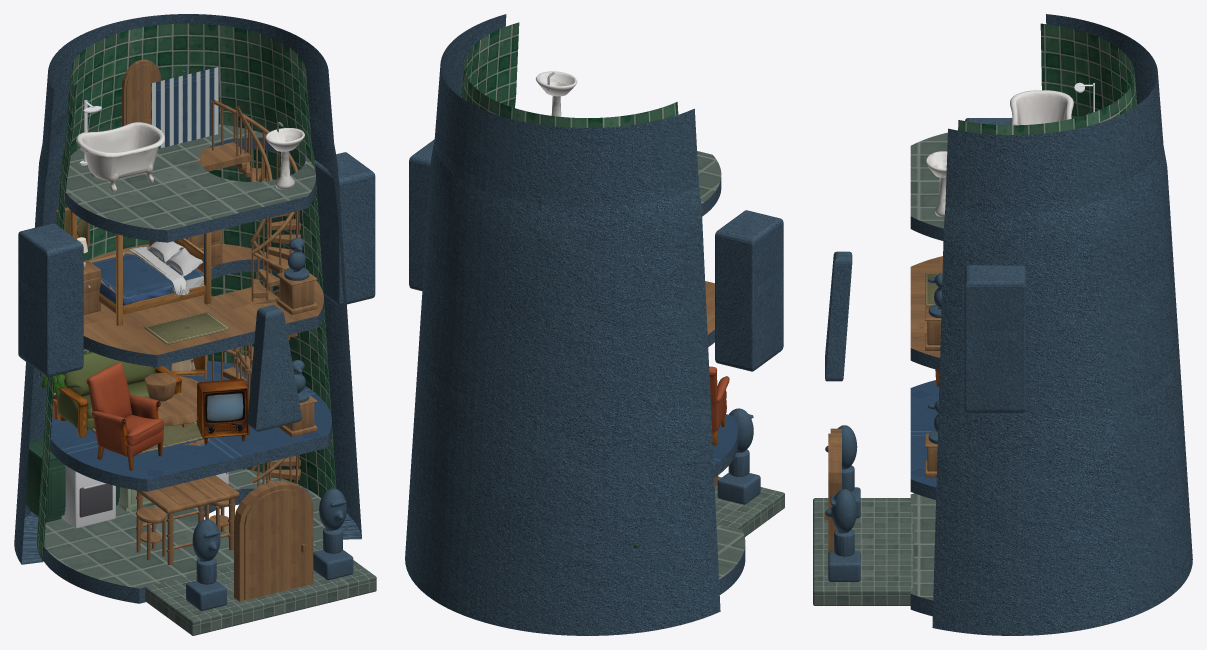
Rendered from squidward-interior-web.glb.
3 views of the same model, side by side, from view 1: azimuth 30°, elevation 25°; view 2: azimuth 150°, elevation 25°; view 3: azimuth 270°, elevation 25° (orthographic). The views are drawn at different scales.
Visible parts, largest first — view 1: wall_shell_main, floor_4, floor_1, floor_2, floor_3, feature_ear_L, stairs_batch_39, feature_ear_R, bedroom_bed_0, entrance_stone_porch, door_panel, bath_batch_31 (+19 smaller); view 2: wall_shell_main, feature_ear_L, feature_ear_R, entrance_batch_14, entrance_stone_porch, floor_1, floor_4, floor_2, living_armchair_0, bath_batch_31, floor_3; view 3: wall_shell_main, feature_ear_R, entrance_stone_porch, entrance_batch_14, floor_4, bath_batch_31, floor_1, feature_nose, floor_2, floor_3, art_batch_26, door_frame (+1 smaller).
Part boxes in pixels (box(x1,y1,x2,y2)): wall_shell_main: box(14, 14, 361, 564); floor_4: box(65, 124, 315, 242); floor_1: box(37, 469, 325, 603); floor_2: box(45, 361, 331, 491); floor_3: box(83, 244, 323, 367); feature_ear_L: box(18, 223, 83, 377); stairs_batch_39: box(195, 99, 300, 532); feature_ear_R: box(314, 152, 375, 305); bedroom_bed_0: box(70, 210, 211, 326); entrance_stone_porch: box(145, 544, 376, 635); door_panel: box(244, 489, 309, 600); bath_batch_31: box(76, 122, 304, 192); wall_shell_main: box(405, 14, 720, 635); feature_ear_L: box(715, 210, 783, 371); feature_ear_R: box(409, 139, 434, 290); entrance_batch_14: box(717, 408, 760, 504); entrance_stone_porch: box(714, 476, 784, 536); floor_1: box(716, 524, 745, 594); floor_4: box(697, 151, 721, 216); floor_2: box(712, 414, 737, 477); living_armchair_0: box(709, 366, 729, 445); bath_batch_31: box(535, 71, 577, 116); floor_3: box(705, 281, 714, 346); wall_shell_main: box(932, 14, 1192, 635); feature_ear_R: box(964, 265, 1026, 412); entrance_stone_porch: box(813, 498, 913, 605); entrance_batch_14: box(825, 425, 860, 581); floor_4: box(910, 132, 947, 240); bath_batch_31: box(926, 90, 1073, 216); floor_1: box(910, 493, 935, 616); feature_nose: box(825, 251, 852, 381); floor_2: box(910, 380, 939, 499); floor_3: box(910, 256, 942, 370); art_batch_26: box(925, 306, 941, 477); door_frame: box(830, 428, 841, 551).
Bounding box in the file's own units: 3.38 × 4.62 × 3.27.
35 materials, 16 textured.
